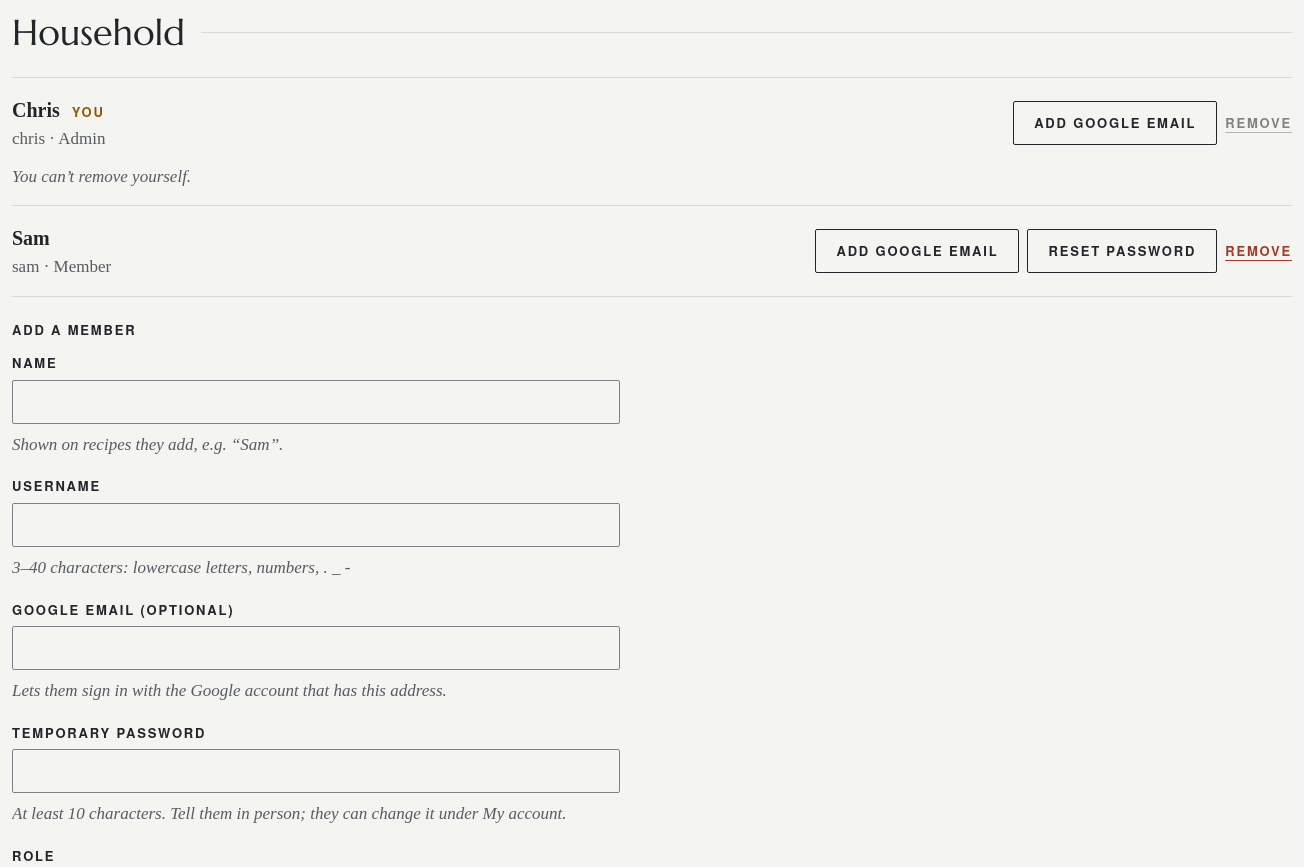
Test: HouseholdSection edge cases › drops the row and refreshes when the member is already gone
Click the button with aria-label "Remove Sam" at (1259,251), box [1225,229,1292,273]
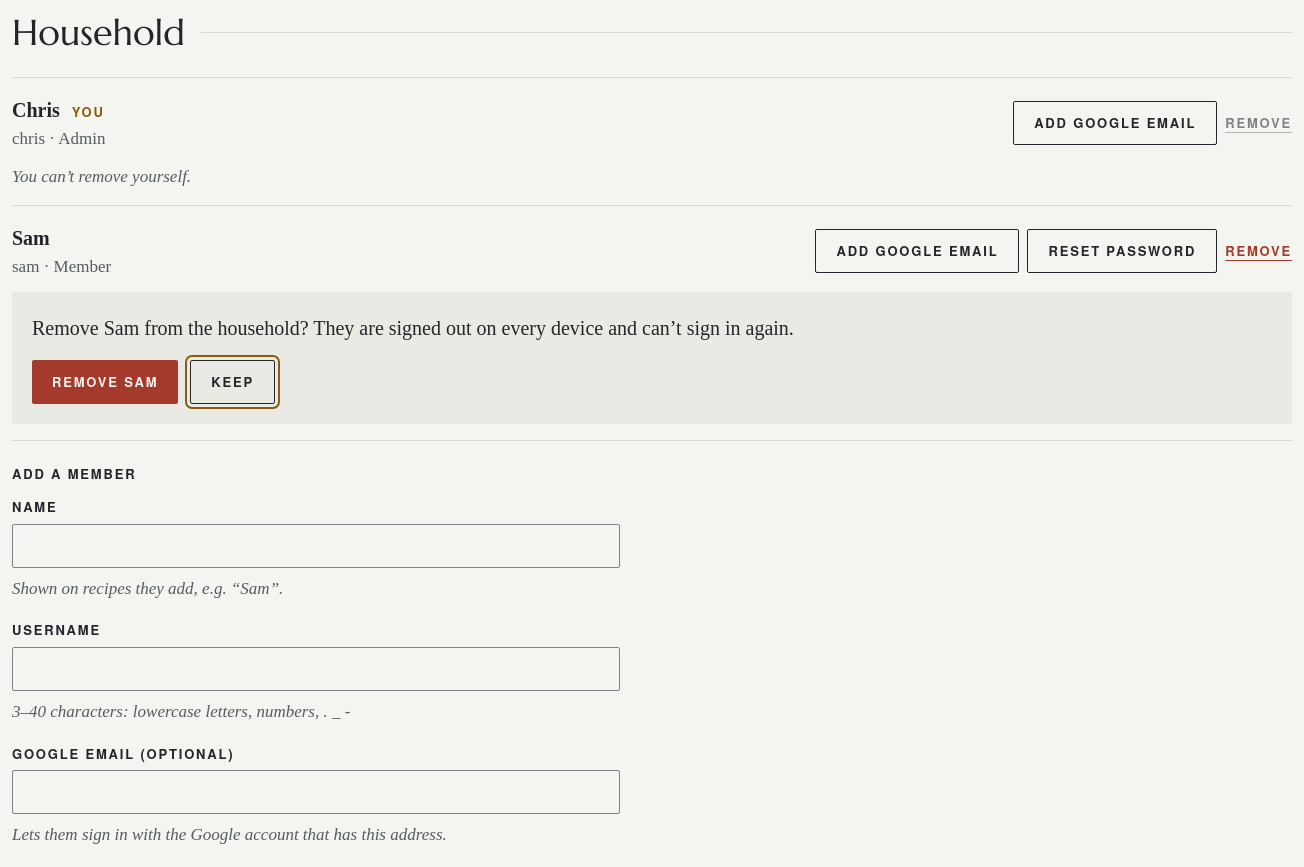
Click the button "Remove Sam" at (105,382), box [32,360,178,404]
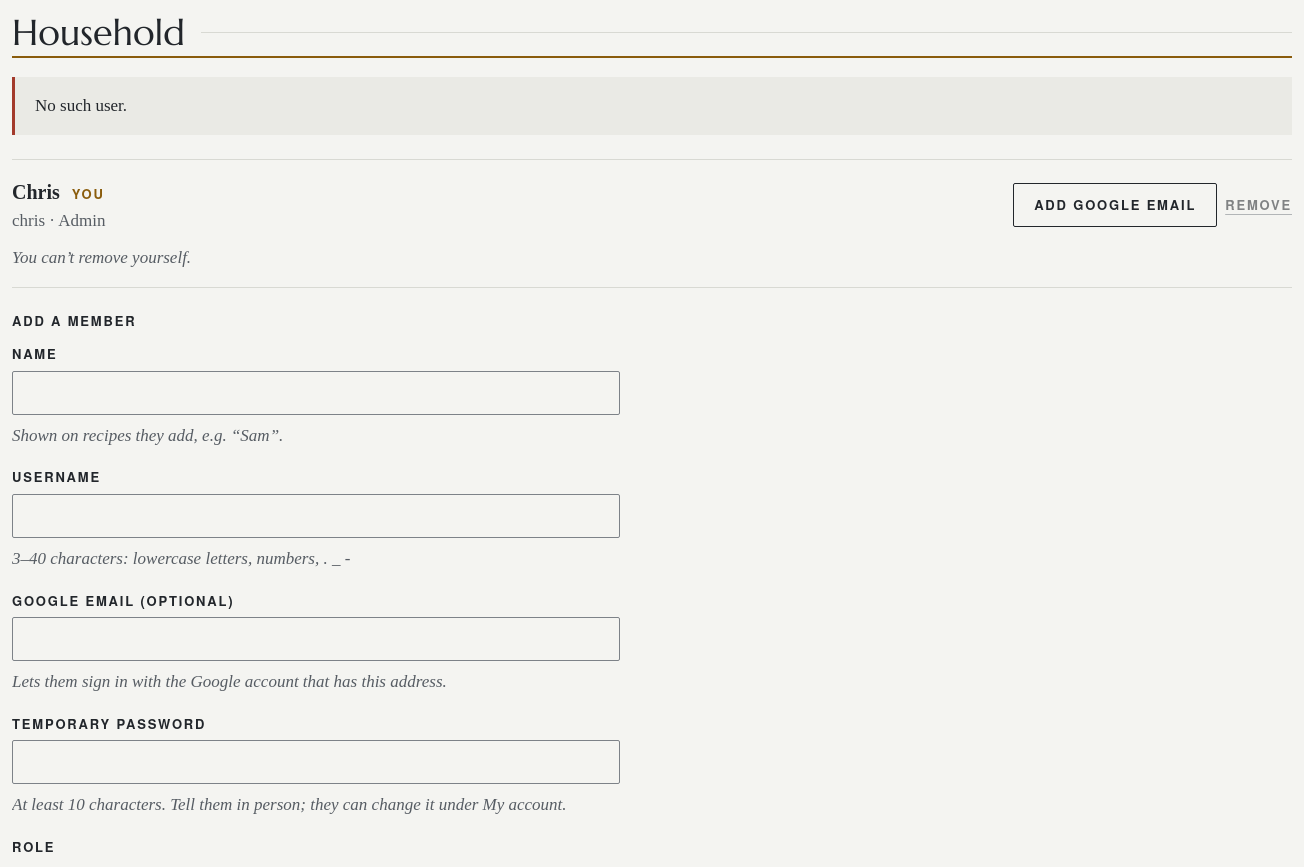
Expected: the message reads "No such user.", [35,96,127,115]
